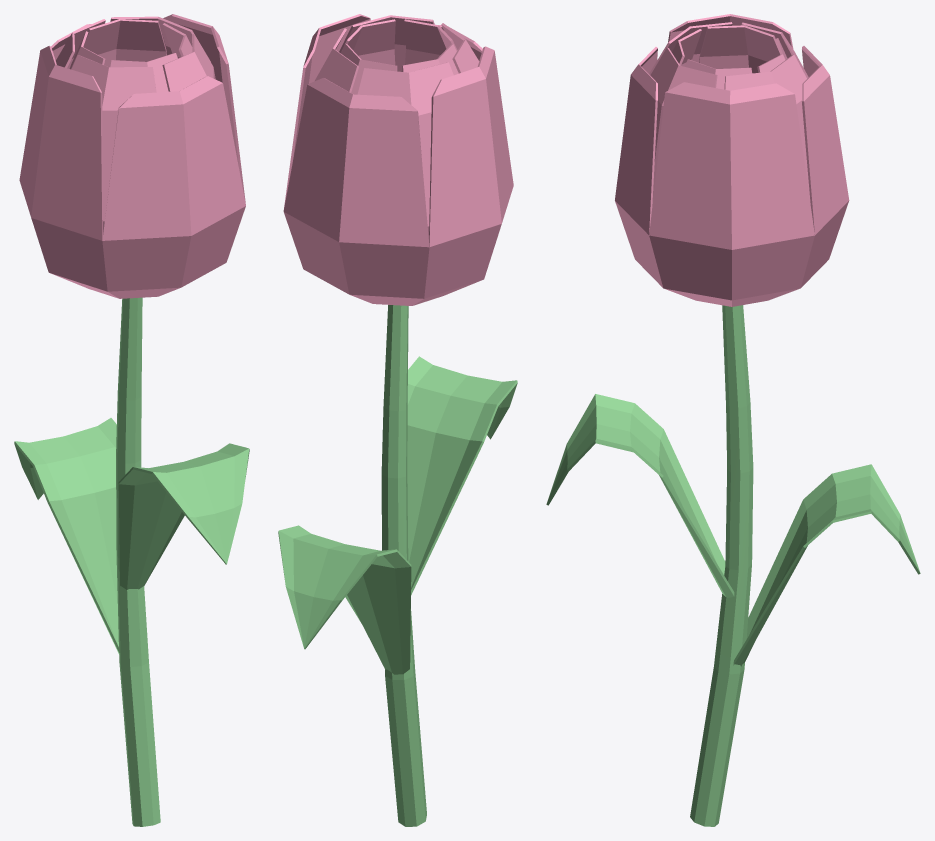
The model's file is Tulip.fbx.
The picture shows the model from 3 angles, left to right: view 1: azimuth 30°, elevation 25°; view 2: azimuth 150°, elevation 25°; view 3: azimuth 270°, elevation 25°; orthographic projection.
Parts seen in each view (by area): view 1: Tulip_01_Circle.003; view 2: Tulip_01_Circle.003; view 3: Tulip_01_Circle.003.
Part boxes in pixels (x1,y1,x2,y2): Tulip_01_Circle.003: (14,14,249,826); Tulip_01_Circle.003: (278,14,517,826); Tulip_01_Circle.003: (546,14,920,826).
Size of the model in its own units: 294 by 1075 by 470.
